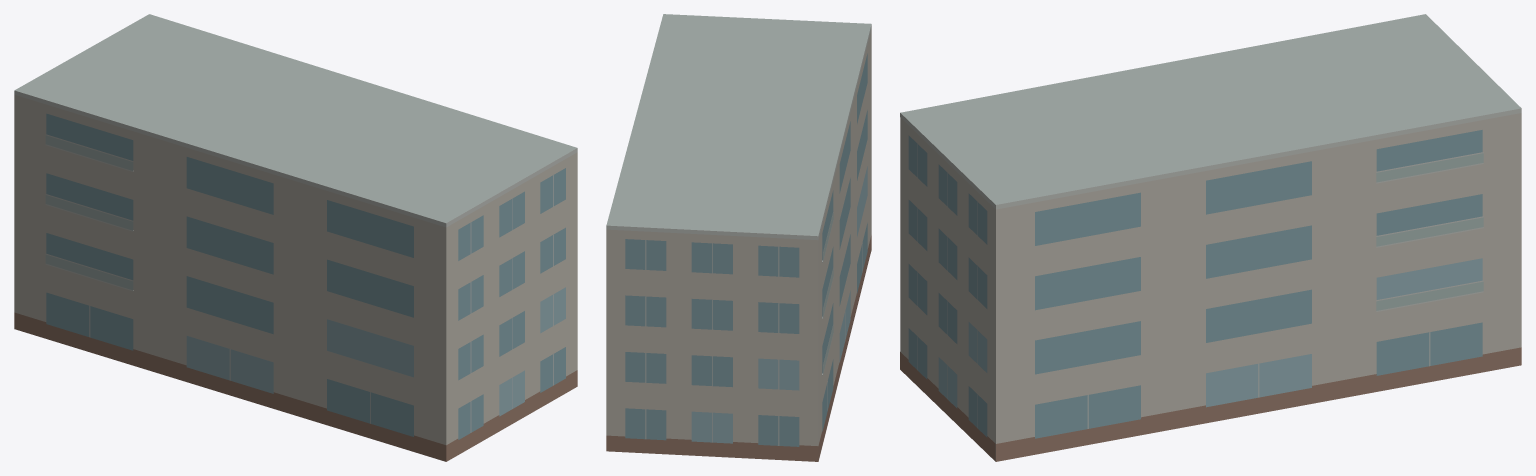
File: survey-upis-32757888.glb
The picture shows the model from 3 angles, left to right: view 1: azimuth 30°, elevation 25°; view 2: azimuth 150°, elevation 25°; view 3: azimuth 270°, elevation 25°; orthographic projection. The views are drawn at different scales.
Parts seen in each view (by area): view 1: survey-upis-32757888.tmp; view 2: survey-upis-32757888.tmp; view 3: survey-upis-32757888.tmp.
Part boxes in pixels (left/top/right/bottom): survey-upis-32757888.tmp: left=14, top=14, right=577, bottom=461; survey-upis-32757888.tmp: left=606, top=14, right=871, bottom=461; survey-upis-32757888.tmp: left=900, top=14, right=1521, bottom=461.
Size of the model in its own units: 21.94 by 13.75 by 30.16.
